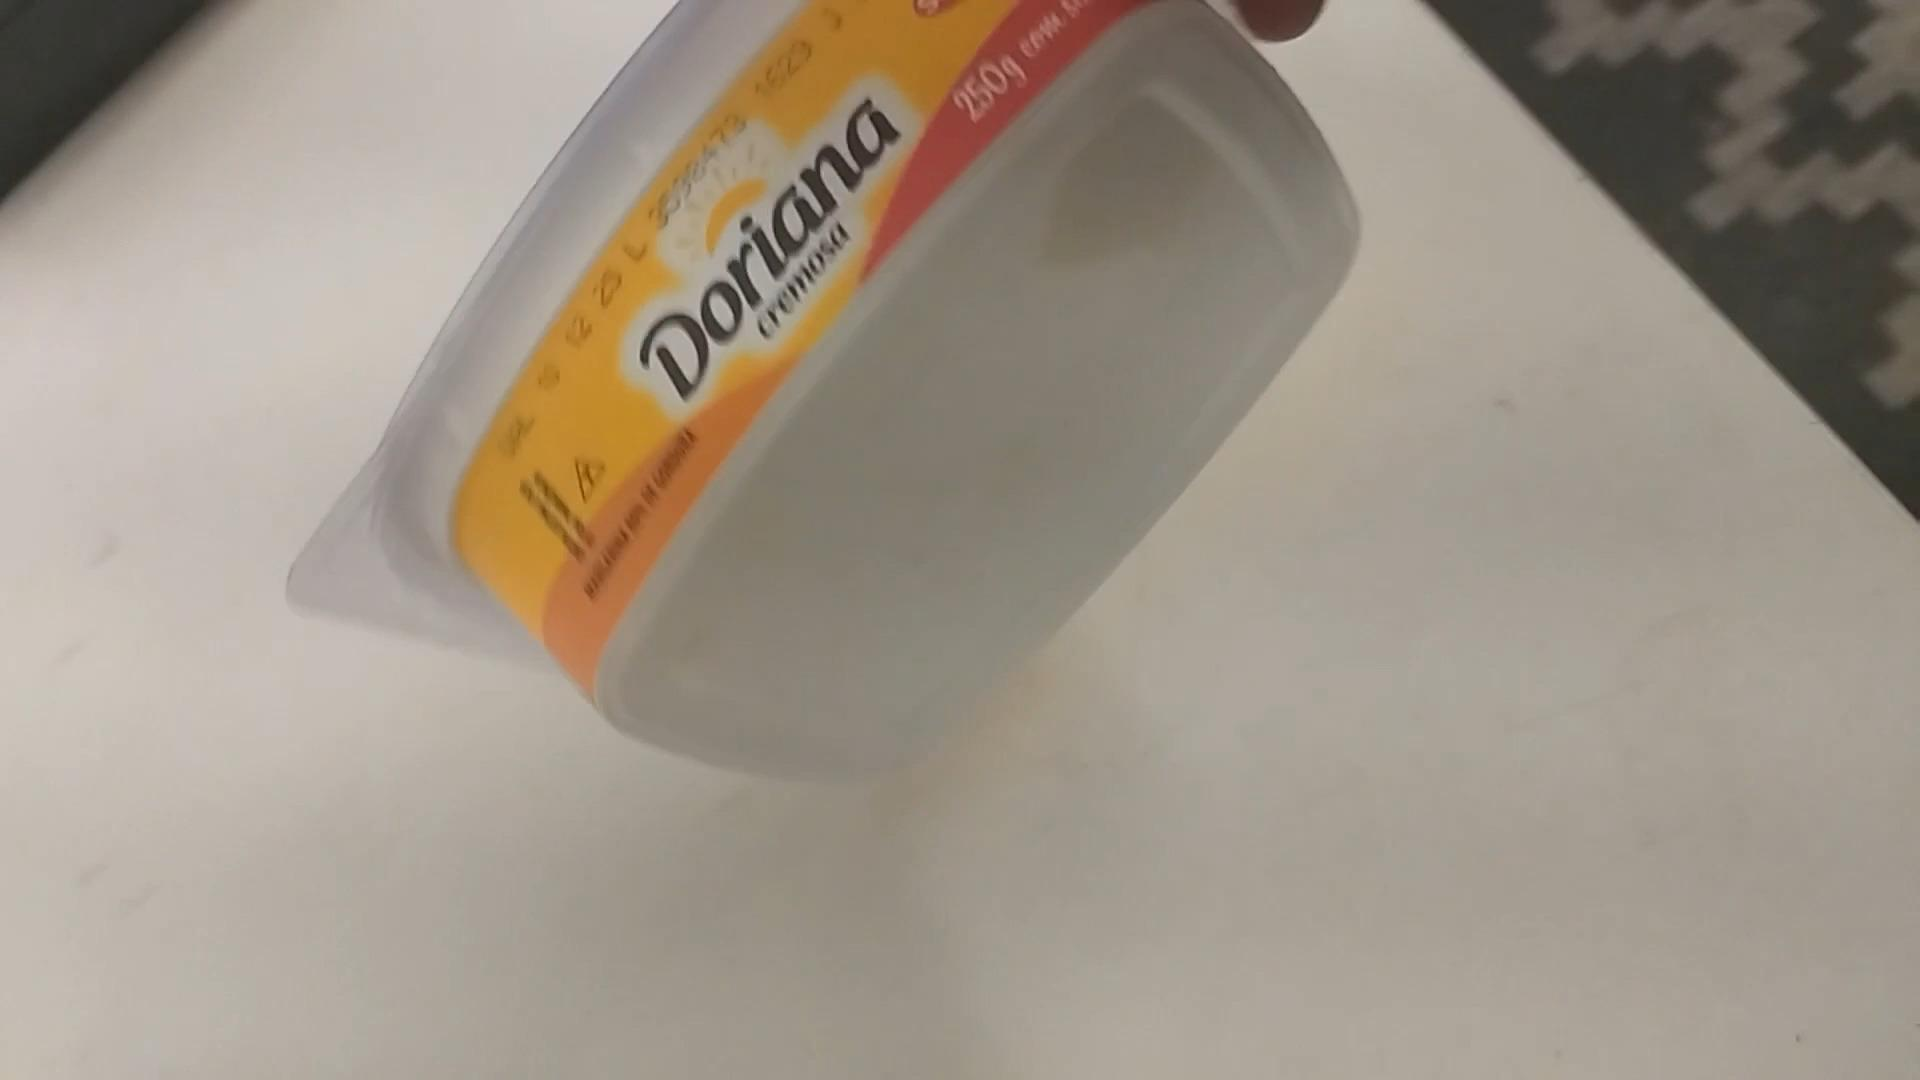butter: (281, 0, 1365, 775)
